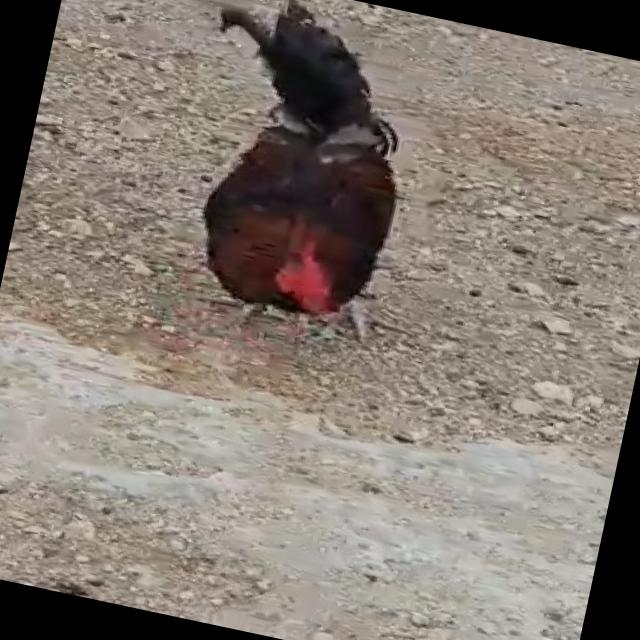pecking: (130, 0, 466, 398)
